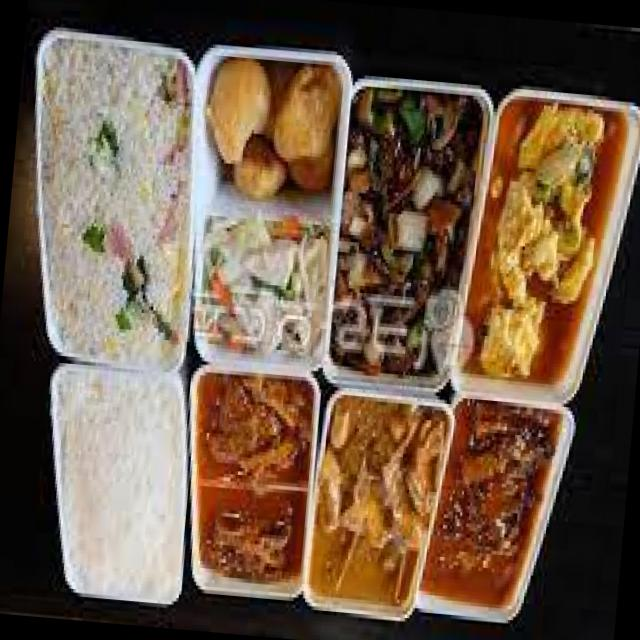plastic-bowl: (442, 87, 640, 407), (316, 71, 502, 399), (30, 26, 196, 371), (189, 33, 354, 379), (410, 391, 580, 626), (301, 382, 461, 623), (37, 359, 184, 605), (183, 365, 323, 604)
